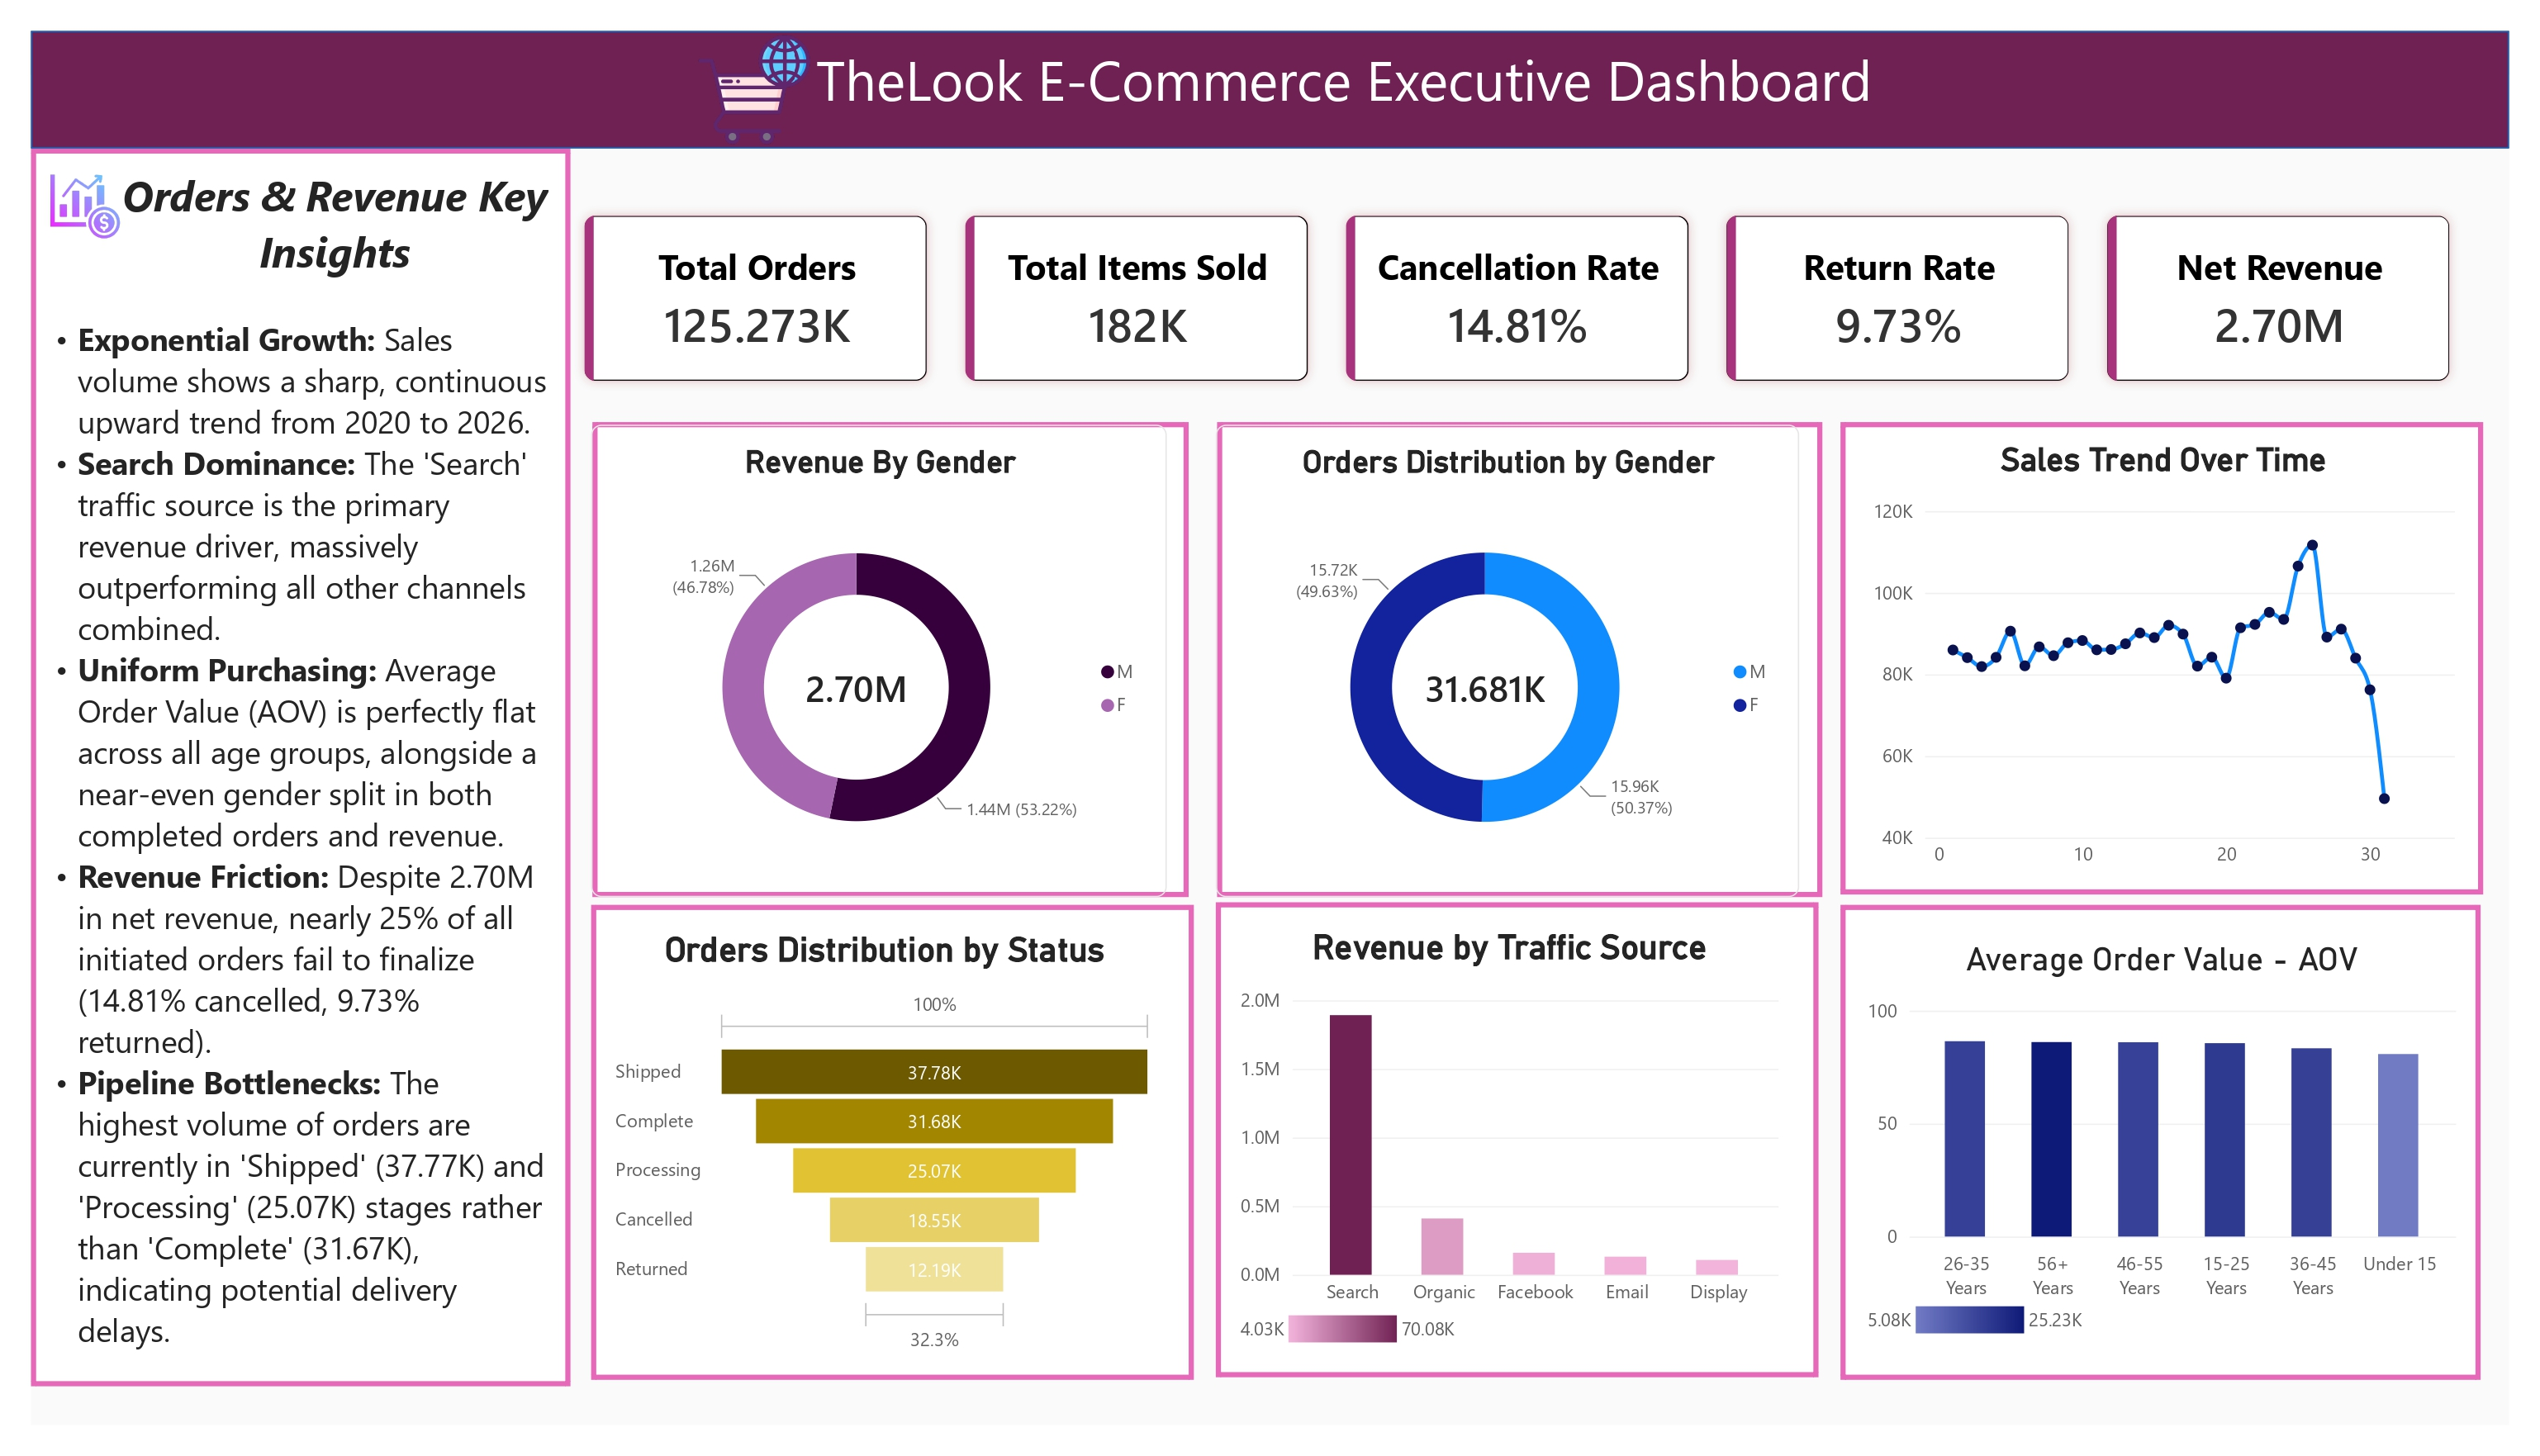

The page's visual inventory and layout, read from the dashboard file:
{"tool":"powerbi","page":{"name":"Orders& Revenue","canvas":[1920,1080],"ordinal":1},"visuals":[{"type":"shape","box":[0,91.1,417.9,958.9],"z":0},{"type":"shape","box":[0,0,1920.4,90.6],"z":1000},{"type":"textbox","box":[561.9,8.2,910.7,73.2],"z":2000},{"type":"image","box":[506.3,0,109.1,90.6],"z":3000},{"type":"textbox","box":[496,398,132,244],"z":4000},{"type":"cardVisual","fields":{"Data":["CountNonNull(orders.order_id)","Sum(orders.num_of_item)","orders.Cancelled Rate","orders.Return Rate","orders.Net Revenue"]},"box":[417.8,131.7,1467.6,150.3],"z":5000},{"type":"group","id":"g1","title":"Group 1","box":[1401.7,302.6,498.1,366.4],"z":5000,"group":"g5"},{"type":"group","id":"g2","title":"Group 3","box":[918,302.6,469.3,368.4],"z":6000},{"type":"group","id":"g3","title":"Group 1","box":[435.1,302.6,462.4,368.4],"z":7000,"group":"g14"},{"type":"group","id":"g4","title":"Group 1","box":[918.8,302.6,468.5,368.4],"z":7000,"group":"g2"},{"type":"group","id":"g5","title":"Group 4","box":[1401.7,302.6,498.1,366.4],"z":7000},{"type":"group","id":"g6","title":"Group 1","box":[918,675.1,467.2,368.4],"z":7000,"group":"g12"},{"type":"group","id":"g7","title":"Group 1","box":[434.3,677.2,467.2,368.4],"z":7000,"group":"g13"},{"type":"group","id":"g8","title":"Group 1","box":[1401.7,677.2,496.1,368.4],"z":7000,"group":"g11"},{"type":"group","id":"g9","title":"Group 5","box":[1401.7,677.2,496.1,368.4],"z":8000},{"type":"donutChart","title":"Revenue By Gender","fields":{"Category":["users.gender"],"Y":["orders.Net Revenue"]},"box":[434.3,304.4,446.4,366.2],"z":8001,"group":"g14"},{"type":"donutChart","title":"Orders Distribution by Gender","fields":{"Category":["orders.gender"],"Y":["Count(order_items.order_id)"]},"box":[918,304.4,452.4,366.2],"z":8001,"group":"g2"},{"type":"lineChart","title":"Sales Trend Over Time","fields":{"Category":["order_items.created_at.Variation.Date Hierarchy.Year","order_items.created_at.Variation.Date Hierarchy.Quarter","order_items.created_at.Variation.Date Hierarchy.Month","order_items.created_at.Variation.Date Hierarchy.Day"],"Y":["orders.Net Revenue"]},"box":[1410.3,302.6,483.2,366.4],"z":9000,"group":"g5"},{"type":"group","id":"g10","title":"Group 6","box":[434.3,677.2,467.2,368.4],"z":9000},{"type":"group","id":"g11","title":"Group 3","box":[1401.7,677.2,496.1,368.4],"z":9000,"group":"g9"},{"type":"textbox","box":[70,105,331.4,102.9],"z":10000},{"type":"group","id":"g12","title":"Group 3","box":[918,675.1,467.2,368.4],"z":10000,"group":"g15"},{"type":"group","id":"g13","title":"Group 3","box":[434.3,677.2,467.2,368.4],"z":10000,"group":"g10"},{"type":"columnChart","title":"Average Order Value - AOV","fields":{"Category":["users.Age Group"],"Y":["orders.AOV"]},"box":[1407,689.9,487.8,341.7],"z":10000,"group":"g9"},{"type":"image","box":[14.4,86.4,55.6,98.8],"z":11000},{"type":"columnChart","title":"Revenue by Traffic Source","fields":{"Category":["users.traffic_source"],"Y":["orders.Net Revenue"]},"box":[920.7,680.5,449.5,357.7],"z":11000,"group":"g15"},{"type":"funnel","title":"Orders Distribution by Status","fields":{"Category":["order_items.status"],"Y":["Count(order_items.order_id)"]},"box":[437,682.6,449.5,357.7],"z":11000,"group":"g10"},{"type":"textbox","box":[0,222.3,401.4,819.2],"z":12000},{"type":"group","id":"g14","title":"Group 3","box":[434.3,302.6,463.1,368.4],"z":13000},{"type":"shape","box":[435.1,302.6,462.4,368.4],"z":13000,"group":"g3"},{"type":"shape","box":[918.8,302.6,468.5,368.4],"z":13000,"group":"g4"},{"type":"shape","box":[1401.7,302.6,498.1,366.4],"z":13000,"group":"g1"},{"type":"shape","box":[918,675.1,467.2,368.4],"z":13000,"group":"g6"},{"type":"shape","box":[434.3,677.2,467.2,368.4],"z":13000,"group":"g7"},{"type":"shape","box":[1401.7,677.2,496.1,368.4],"z":13000,"group":"g8"},{"type":"group","id":"g15","title":"Group 6","box":[918,675.1,467.2,368.4],"z":14000}]}

Visuals, with their boxes on the page's 1920x1080 design canvas (x1, y1, x2, y2). These are canvas units, not pixel positions in the 2540x1456 screenshot, which may show the page scaled, cropped or inside an application window:
shape: 0 91 418 1050
shape: 0 0 1920 91
textbox: 562 8 1473 81
image: 506 0 615 91
textbox: 496 398 628 642
cardVisual - CountNonNull(orders.order_id) x Sum(orders.num_of_item): 418 132 1885 282
"Group 1" group: 1402 303 1900 669
"Group 3" group: 918 303 1387 671
"Group 1" group: 435 303 898 671
"Group 1" group: 919 303 1387 671
"Group 4" group: 1402 303 1900 669
"Group 1" group: 918 675 1385 1044
"Group 1" group: 434 677 902 1046
"Group 1" group: 1402 677 1898 1046
"Group 5" group: 1402 677 1898 1046
"Revenue By Gender" donutChart: 434 304 881 671
"Orders Distribution by Gender" donutChart: 918 304 1370 671
"Sales Trend Over Time" lineChart: 1410 303 1894 669
"Group 6" group: 434 677 902 1046
"Group 3" group: 1402 677 1898 1046
textbox: 70 105 401 208
"Group 3" group: 918 675 1385 1044
"Group 3" group: 434 677 902 1046
"Average Order Value - AOV" columnChart: 1407 690 1895 1032
image: 14 86 70 185
"Revenue by Traffic Source" columnChart: 921 680 1370 1038
"Orders Distribution by Status" funnel: 437 683 886 1040
textbox: 0 222 401 1042
"Group 3" group: 434 303 897 671
shape: 435 303 898 671
shape: 919 303 1387 671
shape: 1402 303 1900 669
shape: 918 675 1385 1044
shape: 434 677 902 1046
shape: 1402 677 1898 1046
"Group 6" group: 918 675 1385 1044
